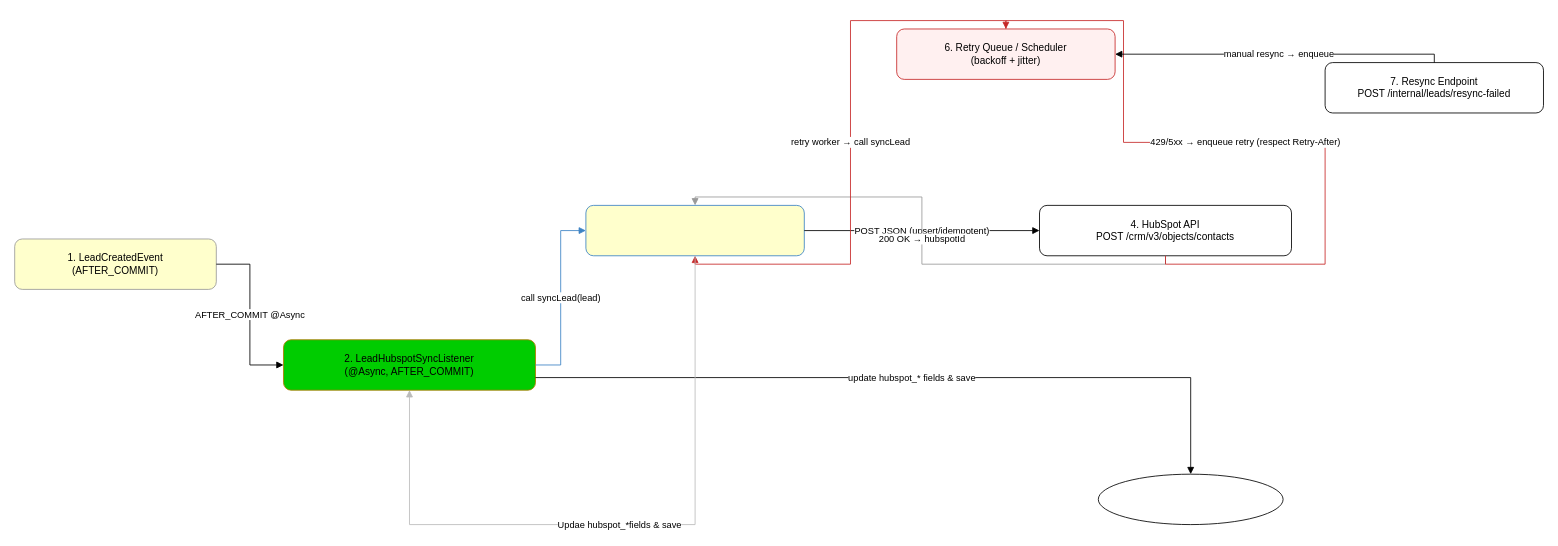
Some shapes in this 1558 by 546 pixel diagram are drawn without their labels. Here are the shapes that lost their labels. From the top down, the centre of each, then its label:
At point 694,230: "3. HubspotService (syncLead)".
At point 1190,499: "5. Database (leads table, hubspot_* fields)".
